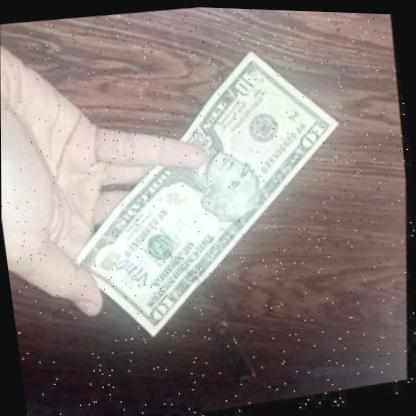ten-front: (38, 12, 378, 376)
